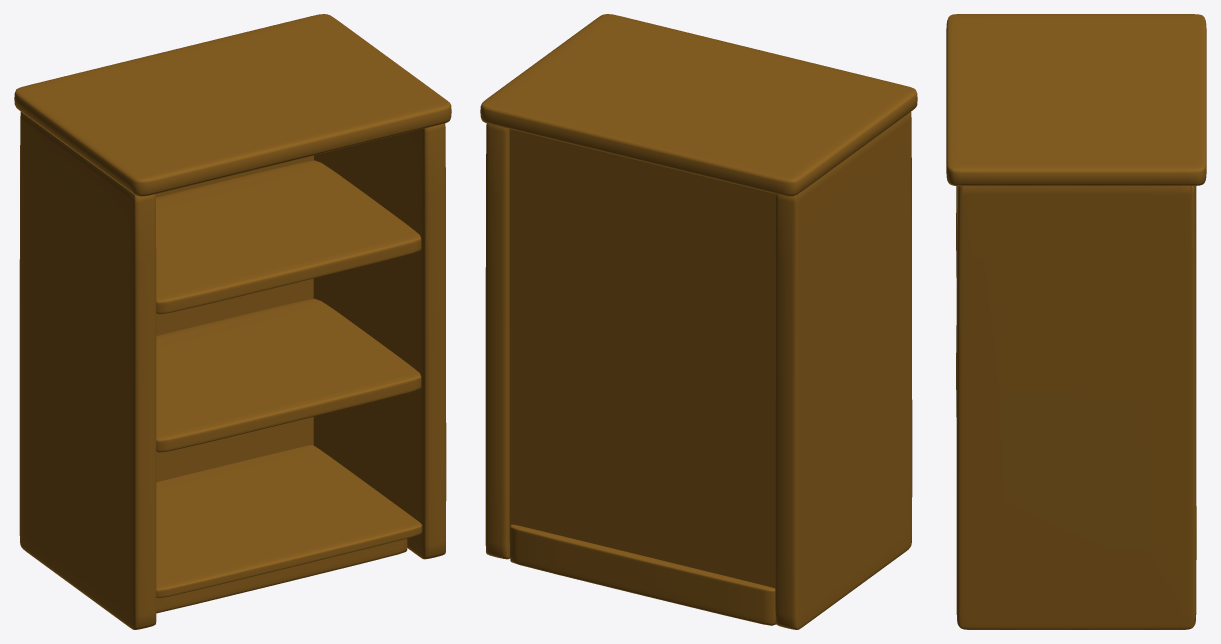
Rendered from pienihylly.fbx.
The picture shows the model from 3 angles, left to right: view 1: azimuth 30°, elevation 25°; view 2: azimuth 150°, elevation 25°; view 3: azimuth 270°, elevation 25°; orthographic projection.
Parts seen in each view (by area): view 1: Cube.001; view 2: Cube.001; view 3: Cube.001.
Boxes of the visible parts, x1,y1,x2,y2 form: Cube.001: [14, 14, 451, 629]; Cube.001: [480, 14, 917, 629]; Cube.001: [946, 14, 1206, 629].
Size of the model in its own units: 81.05 by 111 by 56.62.
